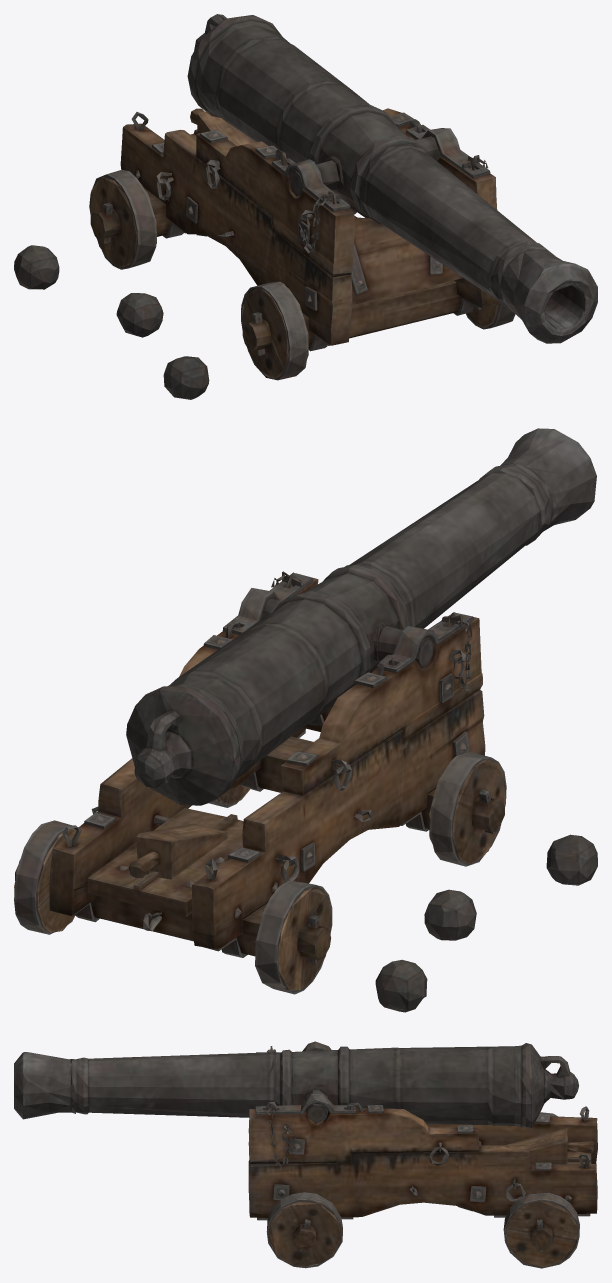
File: cannon_01.glb
The picture shows the model from 3 angles, top to bottom: view 1: azimuth 30°, elevation 25°; view 2: azimuth 150°, elevation 25°; view 3: azimuth 270°, elevation 25°; orthographic projection. The views are drawn at different scales.
Visible parts, largest first — view 1: cannon_01_ball_01; view 2: cannon_01_ball_01; view 3: cannon_01_ball_01.
Boxes of the visible parts, <box> form: cannon_01_ball_01: <box>14,14,597,399</box>; cannon_01_ball_01: <box>14,428,597,1012</box>; cannon_01_ball_01: <box>14,1041,597,1268</box>.
Bounding box in the file's own units: 1.23 × 0.7759 × 2.3.
Materials: 1 (1 with a texture image).
